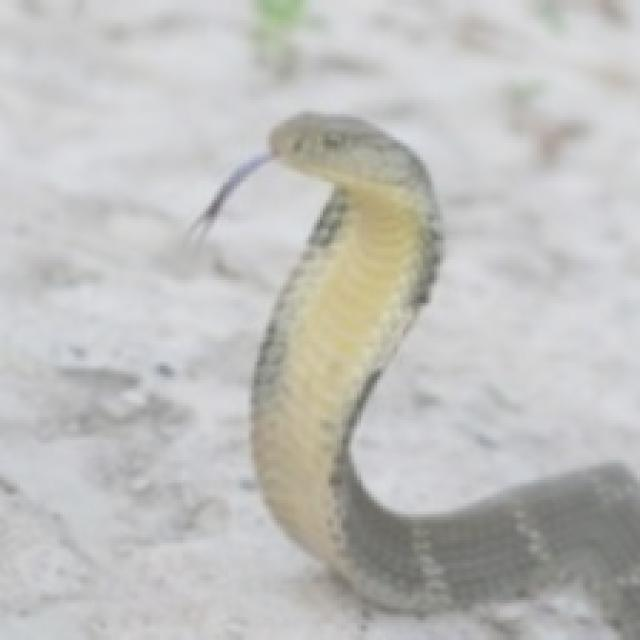king cobra: (194, 114, 637, 637)
